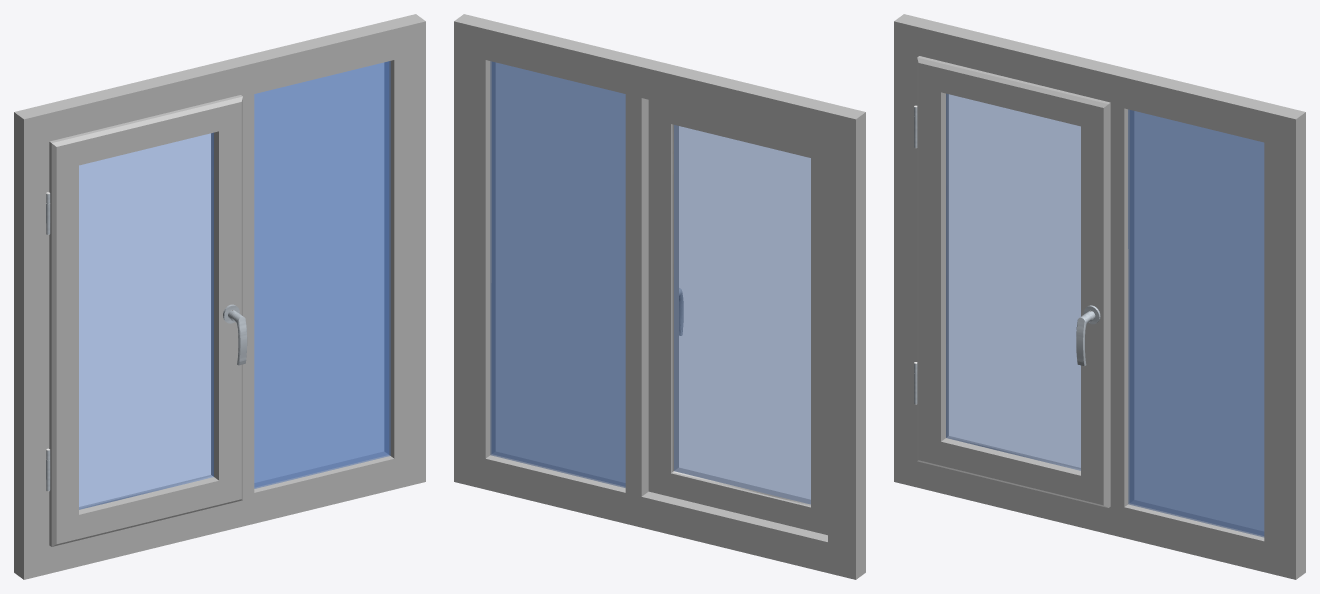
Rendered from windows1.glb.
3 renders of one model, left to right at view 1: azimuth 30°, elevation 25°; view 2: azimuth 150°, elevation 25°; view 3: azimuth 330°, elevation 25°, orthographic.
Parts seen in each view (by area): view 1: root; view 2: root; view 3: root.
Part boxes in pixels (x1,y1,x2,y2): root: [14, 14, 425, 579]; root: [454, 14, 865, 579]; root: [894, 14, 1305, 579].
Bounding box in the file's own units: 1.16 × 1.27 × 0.1351.
Materials: 6 (3 with a texture image).
